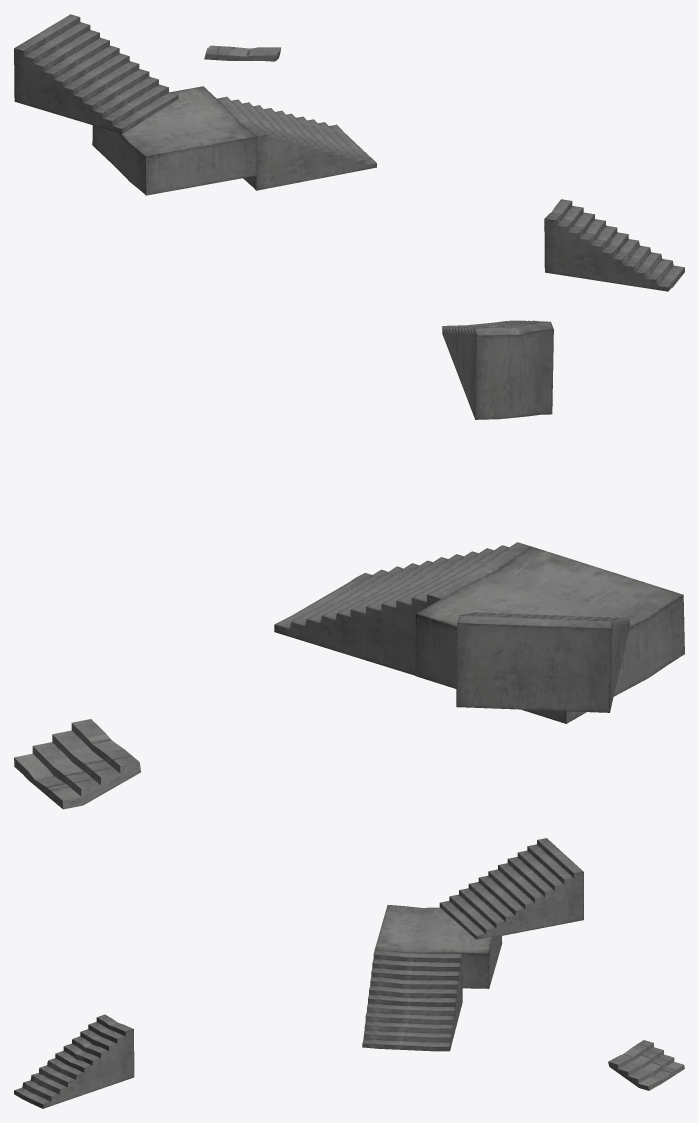
3 views of the same model, one above another, from view 1: azimuth 30°, elevation 25°; view 2: azimuth 150°, elevation 25°; view 3: azimuth 270°, elevation 25° (orthographic). The views are drawn at different scales.
Parts seen in each view (by area): view 1: Cube.053; view 2: Cube.053; view 3: Cube.053.
Part boxes in pixels (x1,y1,x2,y2): Cube.053: [14, 14, 684, 291]; Cube.053: [14, 320, 684, 809]; Cube.053: [14, 838, 684, 1108].
Bounding box in the file's own units: 2204 × 679 × 3677.
